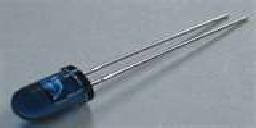LED: (8, 61, 108, 122)
